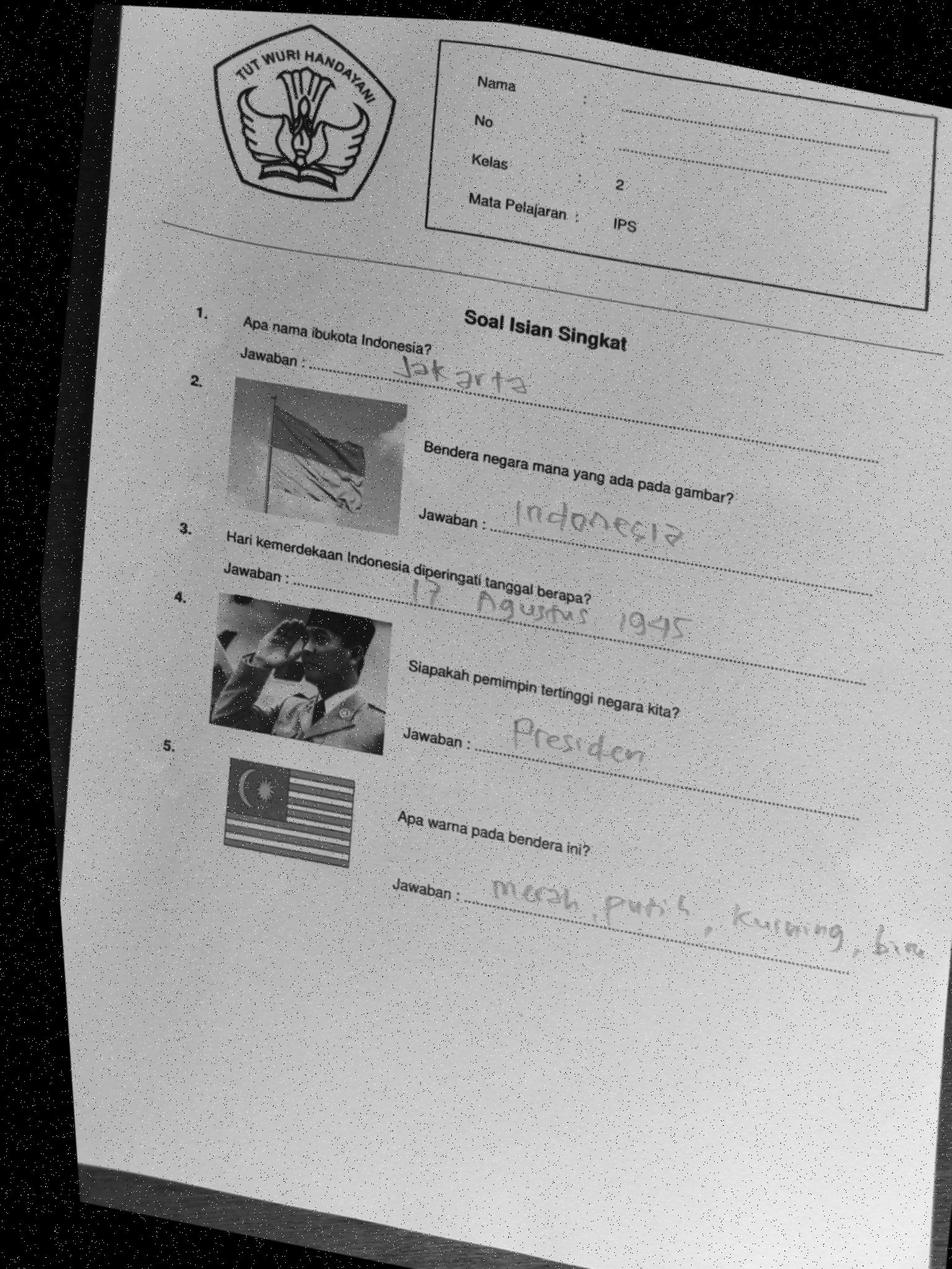soal-1: (189, 281, 907, 489)
soal-2: (182, 362, 898, 615)
soal-3: (162, 491, 898, 710)
soal-4: (153, 576, 897, 847)
soal-5: (138, 716, 898, 1018)
